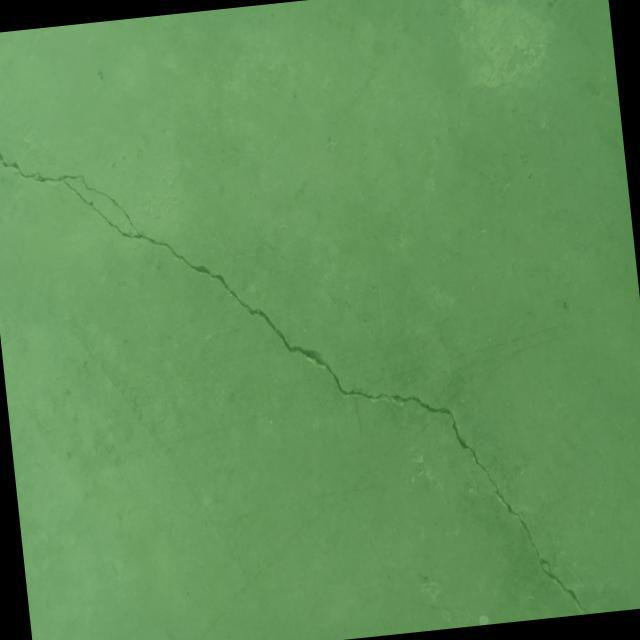crack: (0, 67, 591, 640)
